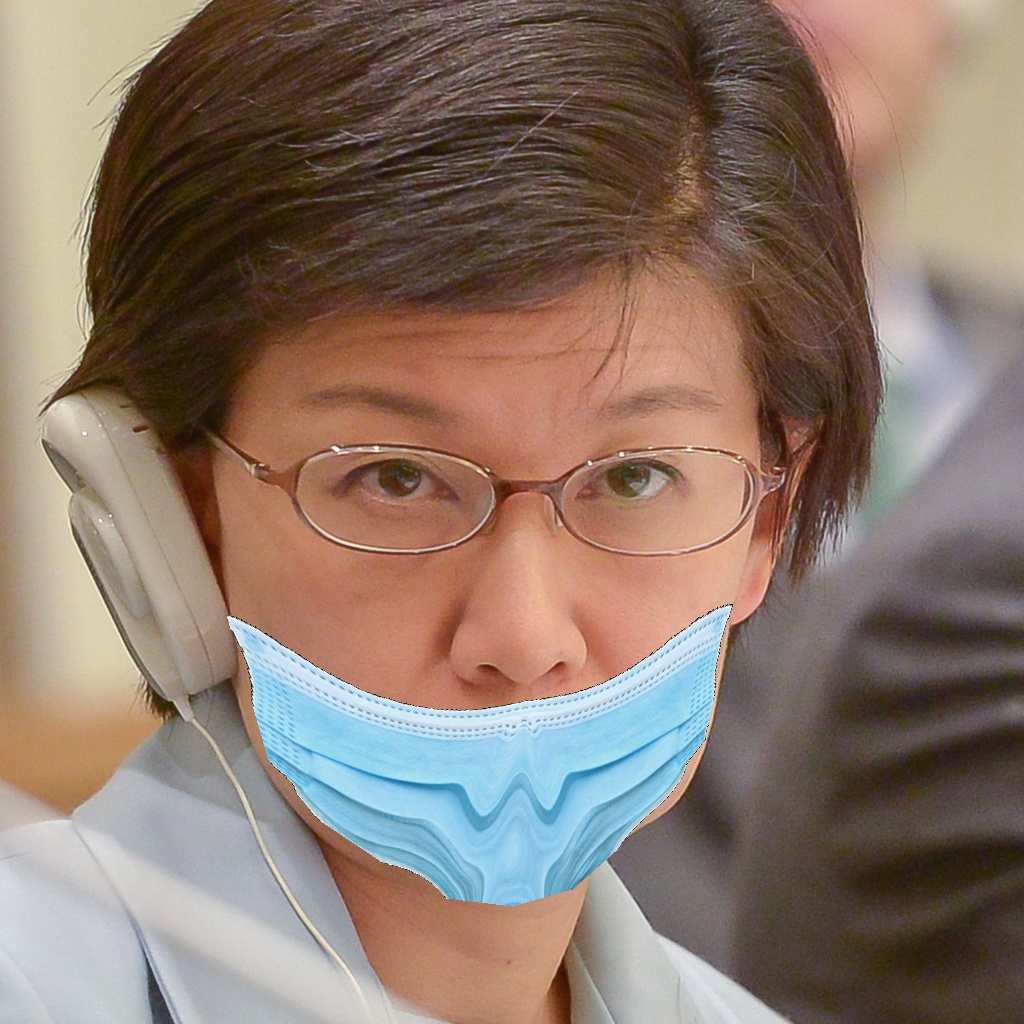mask_weared_incorrect: (242, 380, 743, 905)
